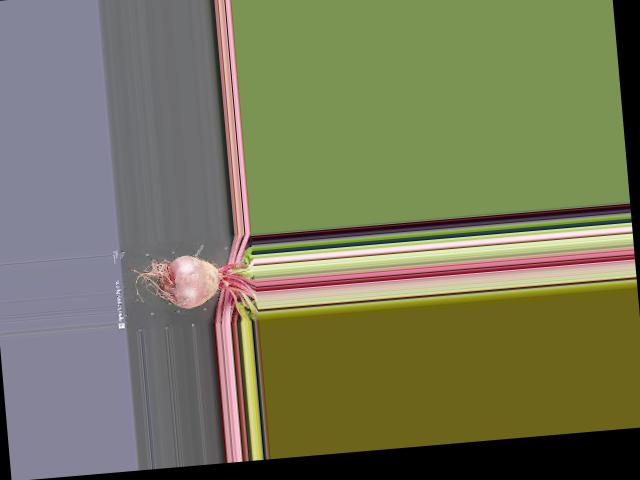beet: (127, 249, 258, 331)
